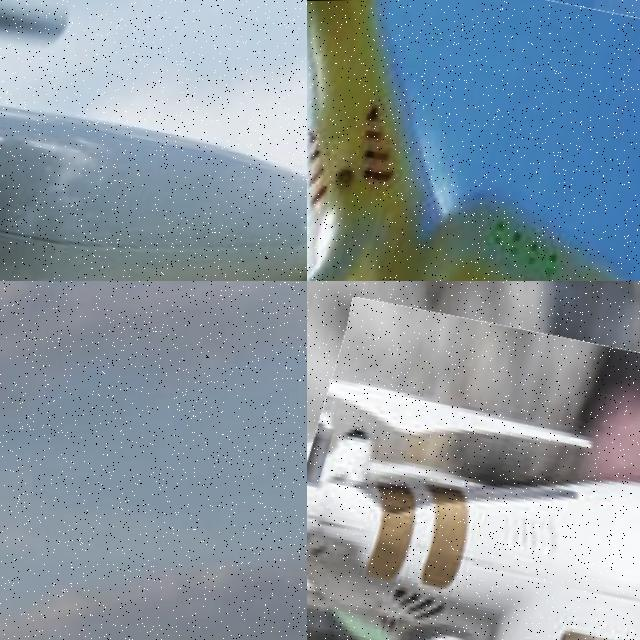0: (307, 316, 640, 640)
drone: (307, 0, 640, 281), (0, 0, 307, 281)
